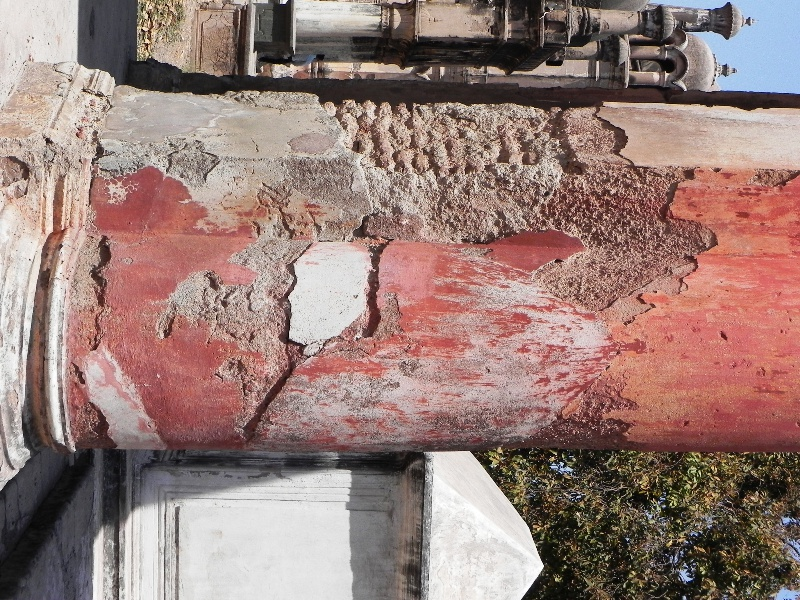Exposed Bricks: (324, 91, 576, 174)
Spalling: (419, 176, 718, 318), (150, 215, 306, 450)
